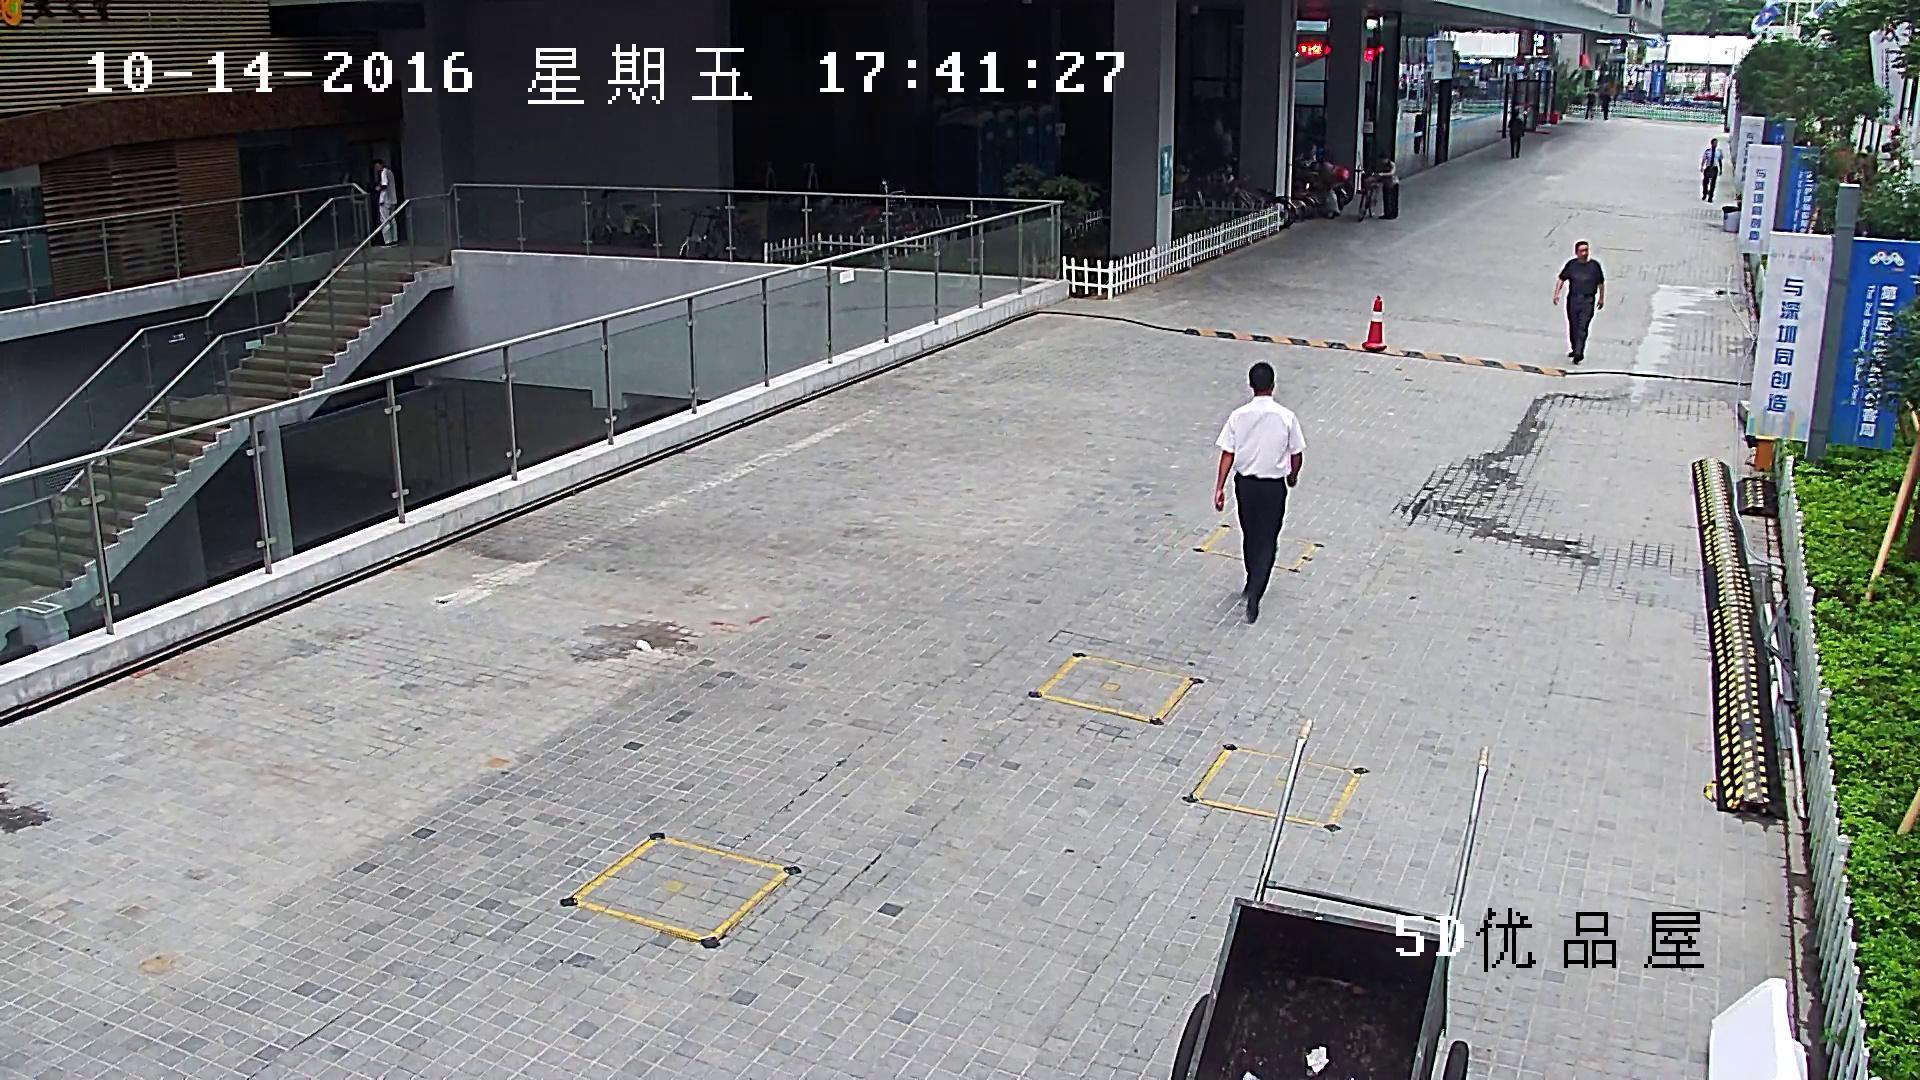person: (1214, 362, 1307, 624), (1552, 240, 1604, 364), (1354, 152, 1399, 221), (373, 158, 398, 248), (1372, 152, 1399, 219), (1699, 138, 1724, 203), (1508, 111, 1523, 159), (1583, 87, 1596, 120), (1600, 88, 1611, 120)
